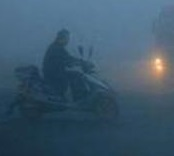person: (40, 26, 90, 107)
